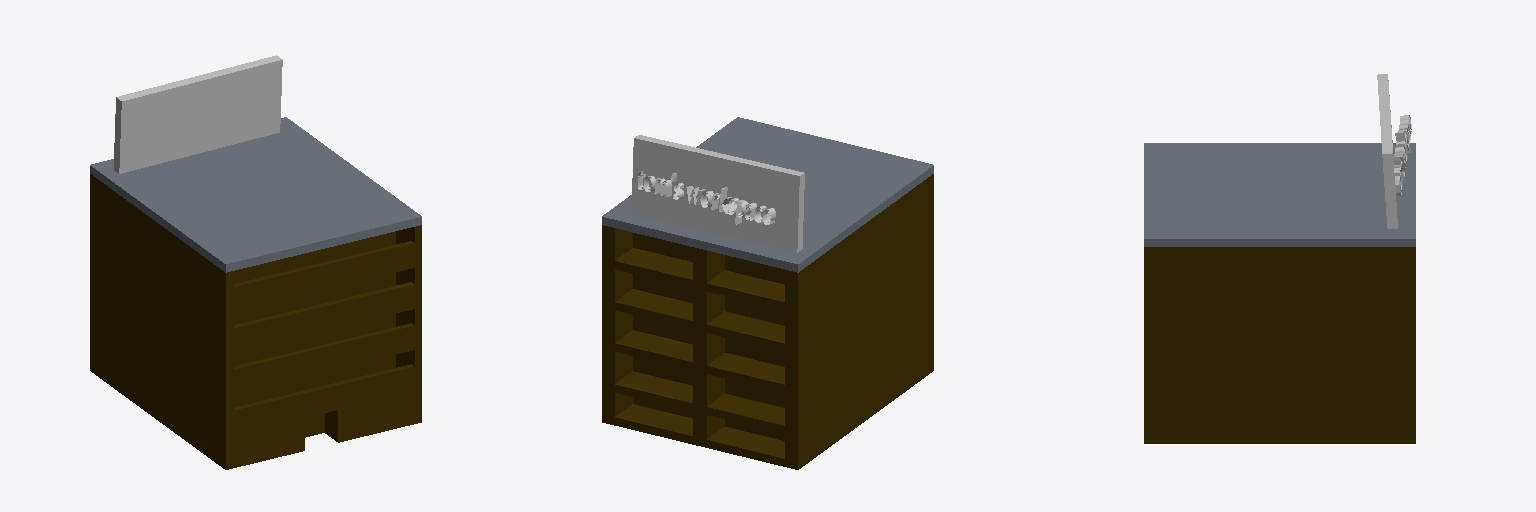
3 renders of one model, left to right at view 1: azimuth 30°, elevation 25°; view 2: azimuth 150°, elevation 25°; view 3: azimuth 270°, elevation 25°, orthographic.
Visible parts, largest first — view 1: lll6_lll6.004, Cube_Cube.001_Cube_Cube.005; view 2: lll6_lll6.004, Cube_Cube.001_Cube_Cube.005, text_Text_text_Text.004; view 3: lll6_lll6.004, Cube_Cube.001_Cube_Cube.005, text_Text_text_Text.004.
Part boxes in pixels (bbox=[...]): lll6_lll6.004: bbox=[90, 117, 421, 469]; Cube_Cube.001_Cube_Cube.005: bbox=[114, 55, 282, 173]; lll6_lll6.004: bbox=[602, 117, 933, 469]; Cube_Cube.001_Cube_Cube.005: bbox=[631, 135, 804, 252]; text_Text_text_Text.004: bbox=[638, 171, 775, 224]; lll6_lll6.004: bbox=[1144, 143, 1415, 443]; Cube_Cube.001_Cube_Cube.005: bbox=[1377, 74, 1397, 228]; text_Text_text_Text.004: bbox=[1393, 115, 1411, 194].
Size of the model in its own units: 25 by 34.14 by 30.